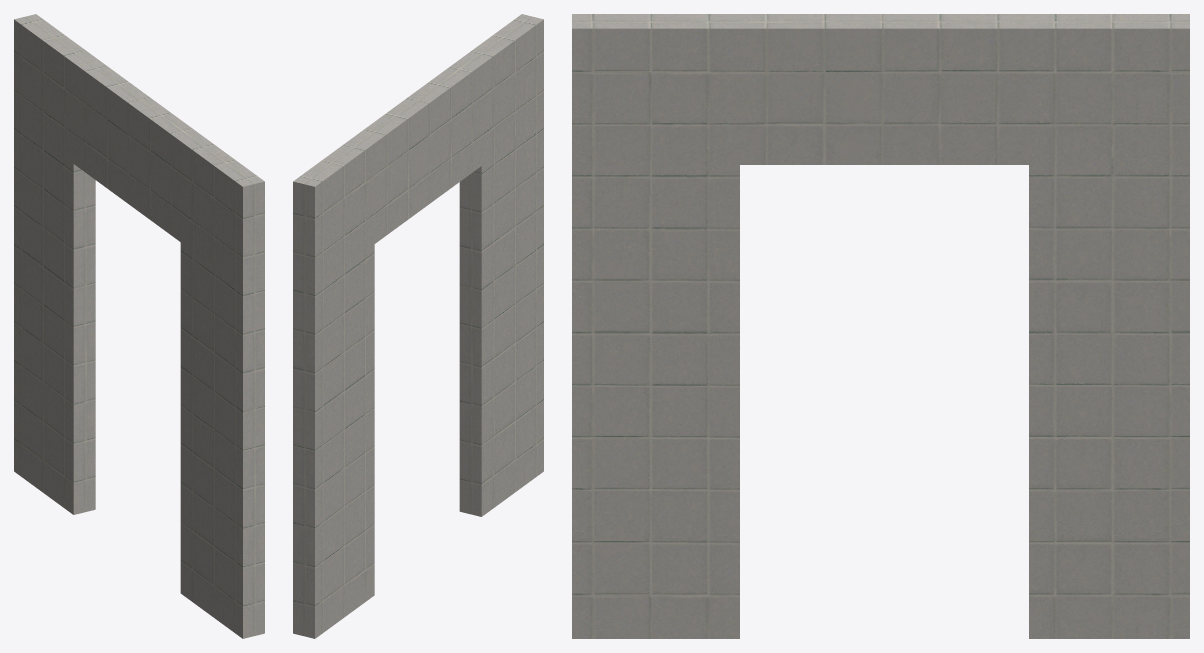
Rendered from soupdoorwall010.glb.
The picture shows the model from 3 angles, left to right: view 1: azimuth 30°, elevation 25°; view 2: azimuth 150°, elevation 25°; view 3: azimuth 270°, elevation 25°; orthographic projection. The views are drawn at different scales.
Visible parts, largest first — view 1: soupdoorwall010_high_1; view 2: soupdoorwall010_high_1; view 3: soupdoorwall010_high_1.
Part boxes in pixels (x1,y1,x2,y2): soupdoorwall010_high_1: (14, 14, 264, 638); soupdoorwall010_high_1: (293, 14, 543, 638); soupdoorwall010_high_1: (572, 14, 1189, 638).
Bounding box in the file's own units: 0.1504 × 2.95 × 2.7.
1 material, 1 textured.
